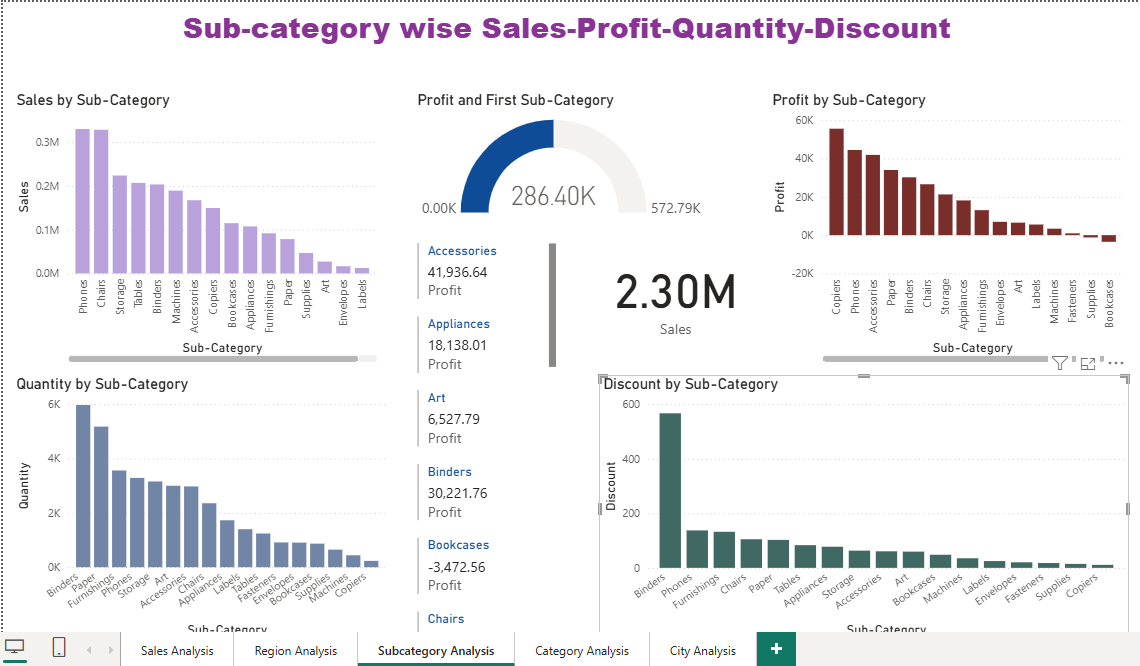

What the dashboard file says about the page in this screenshot:
{"tool":"powerbi","page":{"name":"Subcategory Analysis","canvas":[1280,720],"ordinal":2},"visuals":[{"type":"textbox","box":[9.6,0,1238.8,71.4],"z":0},{"type":"columnChart","fields":{"Category":["Orders.Sub-Category"],"Y":["Sum(Orders.Profit)"]},"box":[861.1,100.3,405.2,310.4],"z":1000},{"type":"clusteredColumnChart","fields":{"Category":["Orders.Sub-Category"],"Y":["Sum(Orders.Sales)"]},"box":[9.6,100.3,416.1,310.4],"z":2000},{"type":"clusteredColumnChart","fields":{"Category":["Orders.Sub-Category"],"Y":["Sum(Orders.Quantity)"]},"box":[9.6,420.3,425.8,299.4],"z":3000},{"type":"clusteredColumnChart","fields":{"Category":["Orders.Sub-Category"],"Y":["Sum(Orders.Discount)"]},"box":[671.3,419.8,596.5,300.1],"z":4000},{"type":"gauge","fields":{"Y":["Sum(Orders.Profit)"]},"box":[461.5,100.3,333.7,155.2],"z":5000},{"type":"multiRowCard","fields":{"Values":["Orders.Sub-Category","Sum(Orders.Profit)"]},"box":[461.9,266.5,166.4,453.5],"z":6000},{"type":"card","fields":{"Values":["Sum(Orders.Sales)"]},"box":[682.3,266,150.3,126.4],"z":7000}]}

Visuals, with their boxes on the page's 1280x720 design canvas (x1, y1, x2, y2). These are canvas units, not pixel positions in the 1140x666 screenshot, which may show the page scaled, cropped or inside an application window:
textbox: pyautogui.locateOnScreen(10, 0, 1248, 71)
columnChart - Orders.Sub-Category x Sum(Orders.Profit): pyautogui.locateOnScreen(861, 100, 1266, 411)
clusteredColumnChart - Orders.Sub-Category x Sum(Orders.Sales): pyautogui.locateOnScreen(10, 100, 426, 411)
clusteredColumnChart - Orders.Sub-Category x Sum(Orders.Quantity): pyautogui.locateOnScreen(10, 420, 435, 720)
clusteredColumnChart - Orders.Sub-Category x Sum(Orders.Discount): pyautogui.locateOnScreen(671, 420, 1268, 720)
gauge - Sum(Orders.Profit): pyautogui.locateOnScreen(462, 100, 795, 256)
multiRowCard - Orders.Sub-Category x Sum(Orders.Profit): pyautogui.locateOnScreen(462, 266, 628, 720)
card - Sum(Orders.Sales): pyautogui.locateOnScreen(682, 266, 833, 392)
